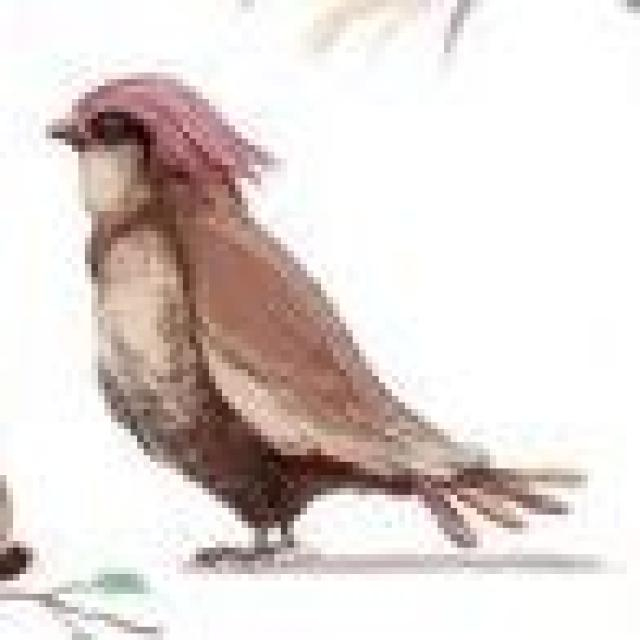Pidgeotto: (38, 74, 526, 564)
